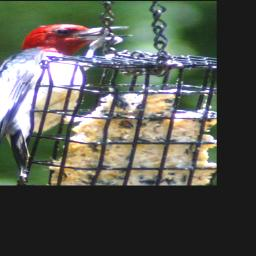Woodpecker: (0, 22, 136, 185)
